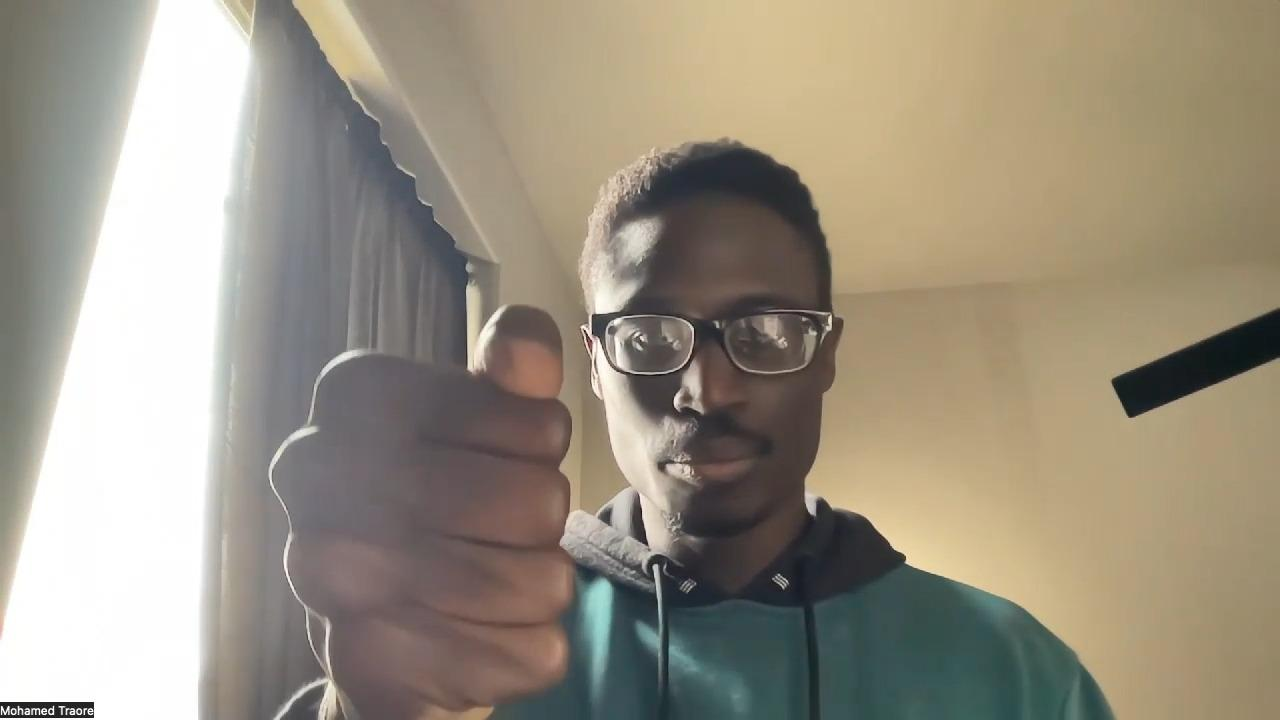Rock: (268, 303, 578, 720)
